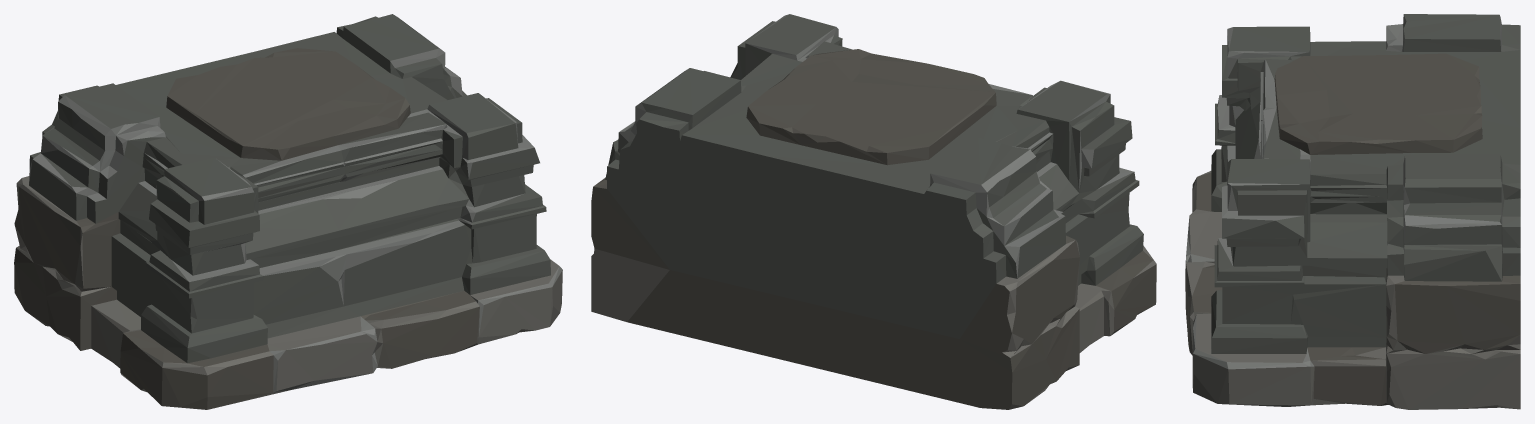
File: MDungeon_GiantPillar_Base.FBX
The picture shows the model from 3 angles, left to right: view 1: azimuth 30°, elevation 25°; view 2: azimuth 150°, elevation 25°; view 3: azimuth 270°, elevation 25°; orthographic projection. The views are drawn at different scales.
Parts seen in each view (by area): view 1: MDungeon_GiantPillar_Base_LOD0; view 2: MDungeon_GiantPillar_Base_LOD0; view 3: MDungeon_GiantPillar_Base_LOD0.
Boxes of the visible parts, x1=… form: MDungeon_GiantPillar_Base_LOD0: x1=14, y1=14, x2=562, y2=409; MDungeon_GiantPillar_Base_LOD0: x1=591, y1=14, x2=1156, y2=409; MDungeon_GiantPillar_Base_LOD0: x1=1185, y1=14, x2=1520, y2=409.
Size of what is drawn, in the model's own units: 6.02 by 2.91 by 4.16.
